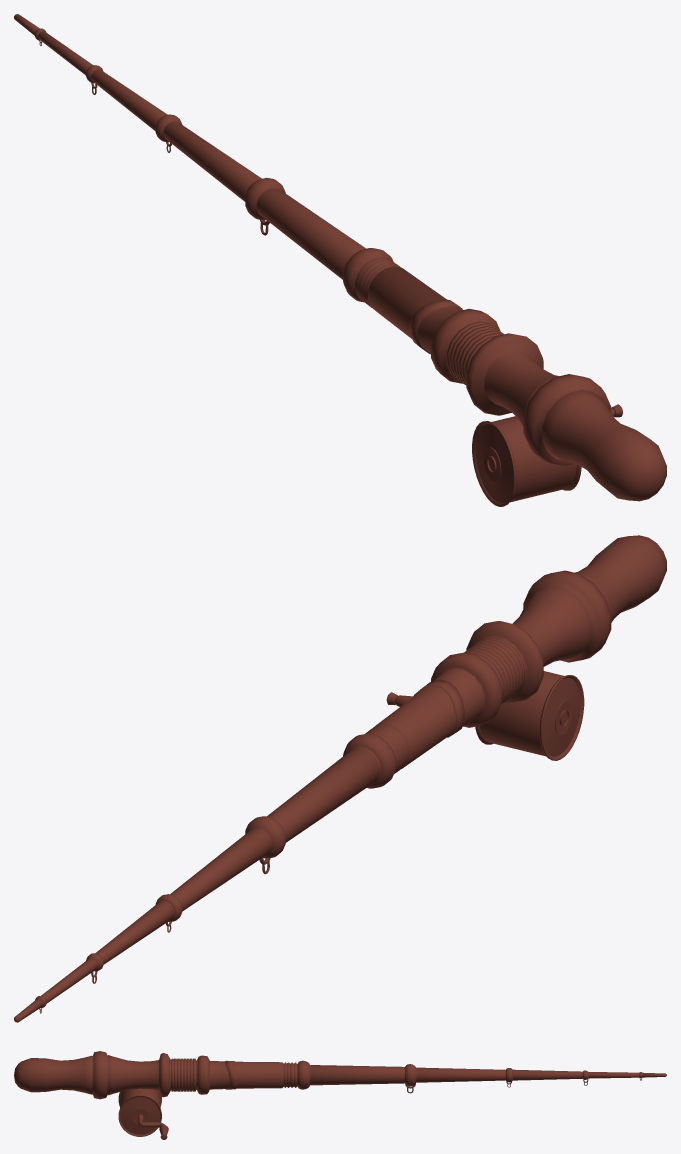
File: final mesh fishing.gltf
3 views of the same model, one above another, from view 1: azimuth 30°, elevation 25°; view 2: azimuth 150°, elevation 25°; view 3: azimuth 270°, elevation 25° (orthographic). The views are drawn at different scales.
Parts seen in each view (by area): view 1: Torus.004; view 2: Torus.004; view 3: Torus.004.
Part boxes in pixels (<box>): Torus.004: <box>14,14,666,506</box>; Torus.004: <box>14,535,666,1022</box>; Torus.004: <box>14,1051,666,1139</box>.
Size of the model in its own units: 0.4781 by 0.4279 by 3.36.
